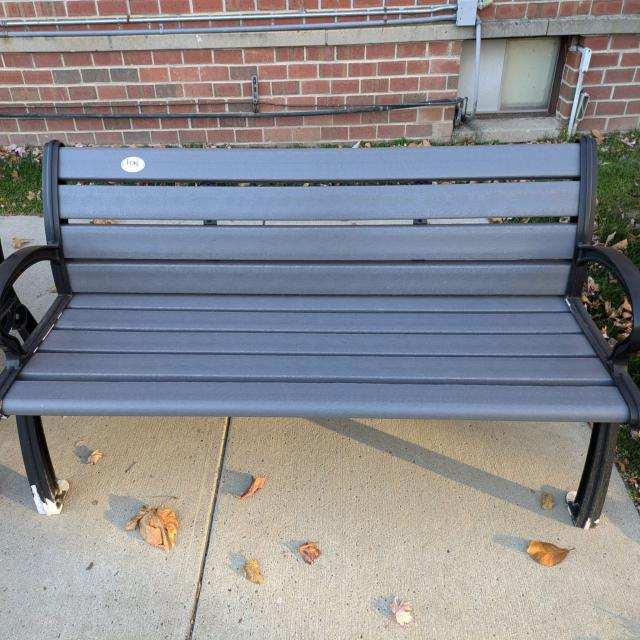Filiform Corrosion: (17, 417, 70, 516), (567, 492, 582, 523), (579, 524, 592, 529)
